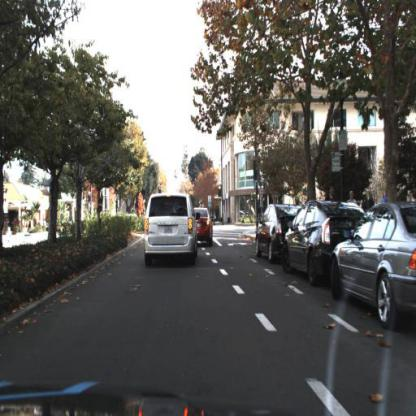car: (331, 202, 416, 331), (281, 200, 366, 295), (143, 194, 200, 264), (253, 204, 302, 265)
pedestrian: (326, 182, 337, 205)
trafficLight-Red: (218, 184, 223, 199), (159, 184, 164, 192)
